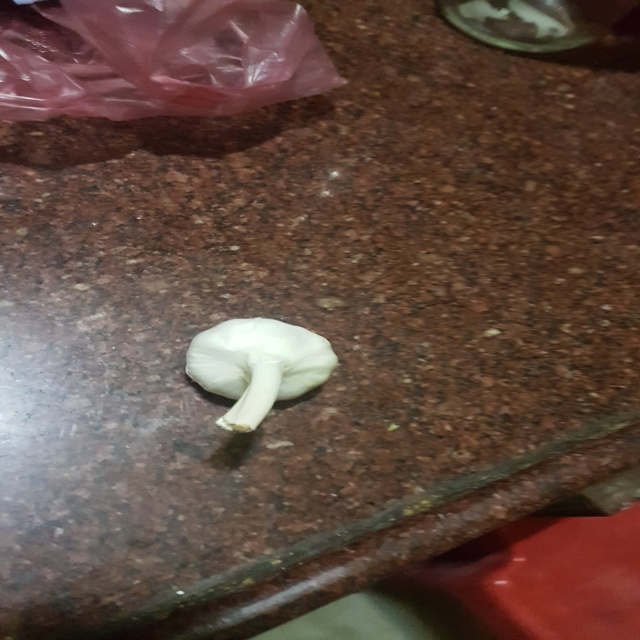garlic: (182, 316, 348, 448)
